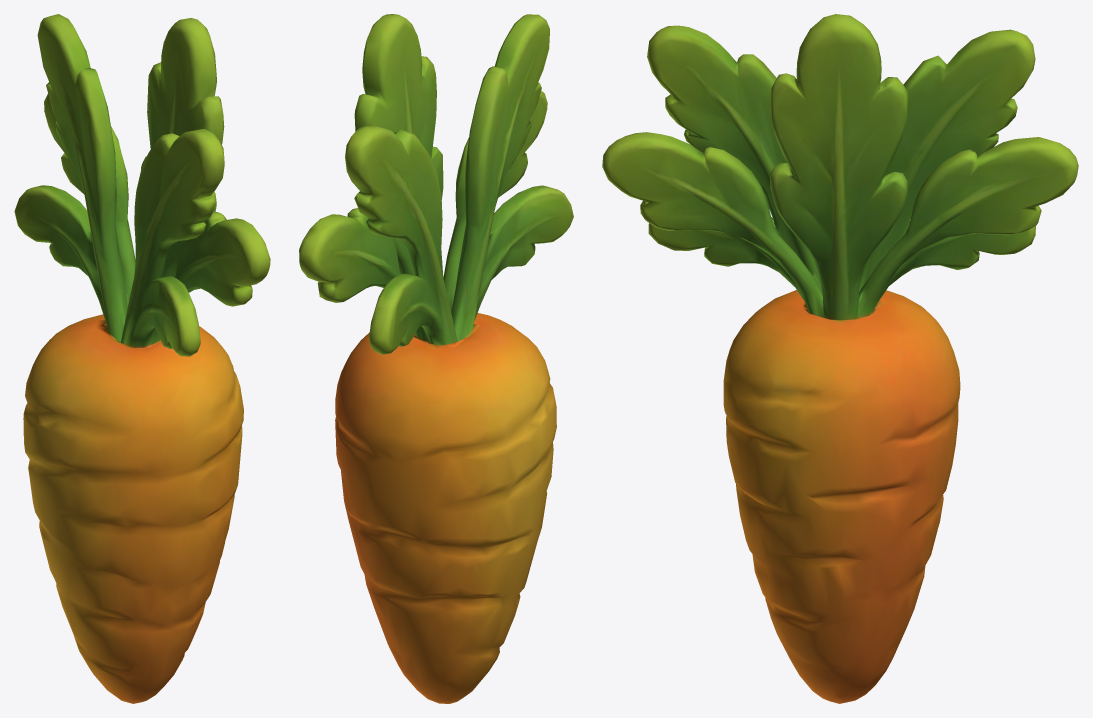
File: food_carrot.glb
3 renders of one model, left to right at view 1: azimuth 30°, elevation 25°; view 2: azimuth 150°, elevation 25°; view 3: azimuth 270°, elevation 25°, orthographic. The views are drawn at different scales.
Visible parts, largest first — view 1: tripo_node_7e310d33-b238-4368-964b-76167d6d669a; view 2: tripo_node_7e310d33-b238-4368-964b-76167d6d669a; view 3: tripo_node_7e310d33-b238-4368-964b-76167d6d669a.
Boxes of the visible parts, x1,y1,x2,y2 form: tripo_node_7e310d33-b238-4368-964b-76167d6d669a: [14, 14, 270, 703]; tripo_node_7e310d33-b238-4368-964b-76167d6d669a: [299, 14, 573, 703]; tripo_node_7e310d33-b238-4368-964b-76167d6d669a: [602, 14, 1078, 703].
Size of the model in its own units: 0.045 by 0.15 by 0.0906.
Materials: 1 (1 with a texture image).
